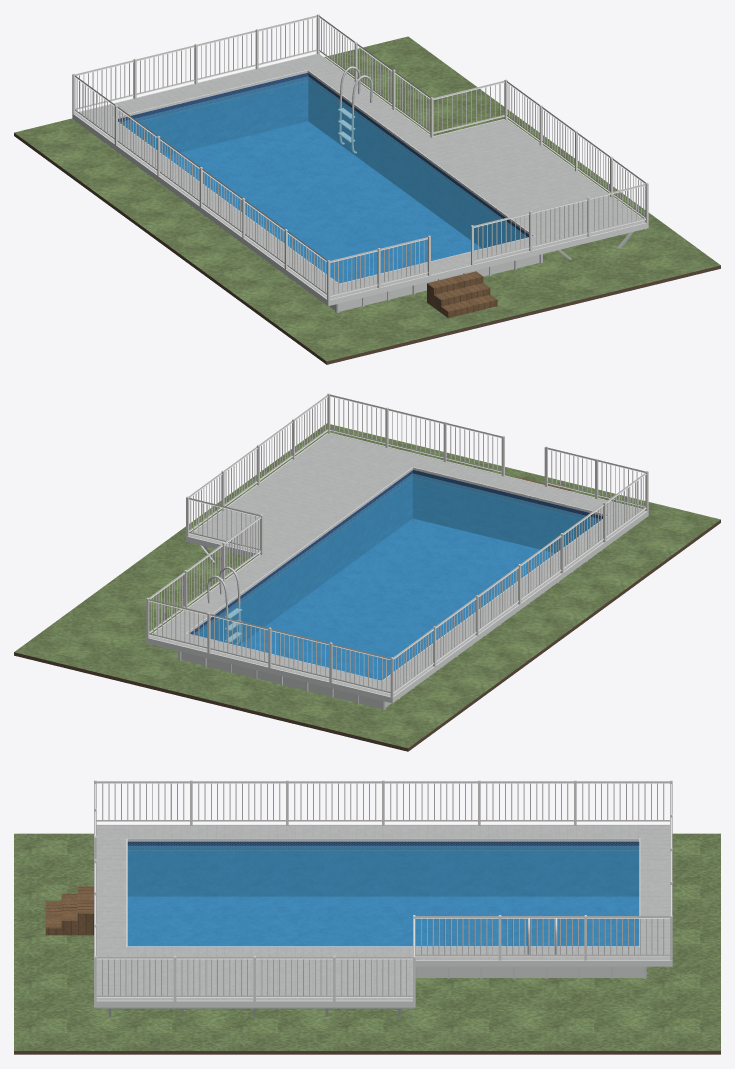
File: kayak-pool-16x32-white-l-rec-fence.bcd3389cd4.glb
The picture shows the model from 3 angles, top to bottom: view 1: azimuth 30°, elevation 25°; view 2: azimuth 150°, elevation 25°; view 3: azimuth 270°, elevation 25°; orthographic projection. The views are drawn at different scales.
Visible parts, largest first — view 1: ground, water, deck, liner_floor, fence, liner_wall, fascia, soil, steps, wall, steel; view 2: ground, water, deck, liner_floor, fence, liner_wall, fascia, soil, wall, steel; view 3: ground, water, deck, liner_wall, liner_floor, fence, fascia, soil, wall, steps, stud.
Part boxes in pixels (x1,y1,x2,y2): ground: [14, 36, 720, 361]; water: [120, 76, 527, 283]; deck: [75, 54, 645, 299]; liner_floor: [165, 121, 481, 283]; fence: [72, 14, 648, 300]; liner_wall: [118, 72, 528, 247]; fascia: [72, 53, 648, 305]; soil: [14, 133, 720, 364]; steps: [427, 271, 497, 318]; wall: [329, 254, 539, 311]; steel: [338, 66, 372, 153]; ground: [14, 423, 720, 748]; water: [193, 473, 600, 680]; deck: [149, 433, 645, 696]; liner_floor: [239, 518, 555, 680]; fence: [146, 393, 648, 697]; liner_wall: [190, 470, 602, 645]; fascia: [146, 433, 648, 703]; soil: [14, 520, 720, 751]; wall: [181, 652, 391, 708]; steel: [207, 566, 241, 644]; ground: [14, 833, 720, 1050]; water: [127, 845, 639, 946]; deck: [96, 825, 669, 1000]; liner_wall: [127, 841, 639, 896]; liner_floor: [127, 896, 639, 946]; fence: [94, 780, 672, 1001]; fascia: [94, 824, 672, 1007]; soil: [14, 1051, 720, 1054]; wall: [417, 966, 643, 977]; steps: [45, 886, 93, 935]; stud: [95, 1007, 414, 1016].
Size of the model in its own units: 9.75 by 2.15 by 13.4.
13 materials, 5 textured.
